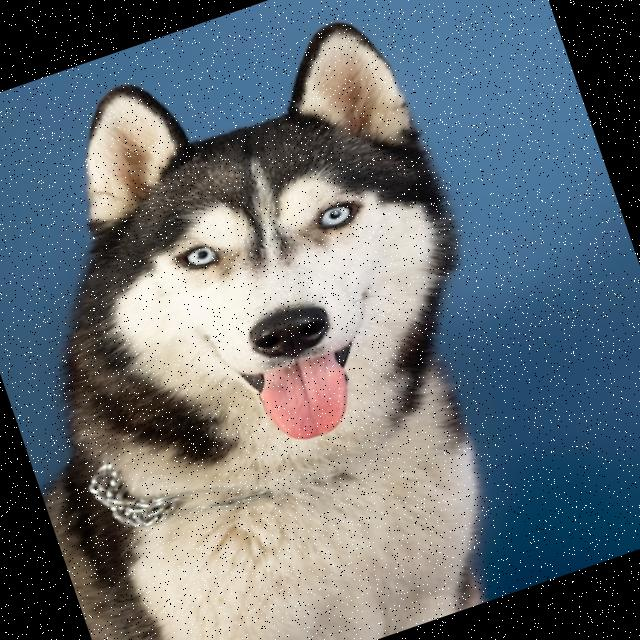Dog: (0, 0, 575, 640)
